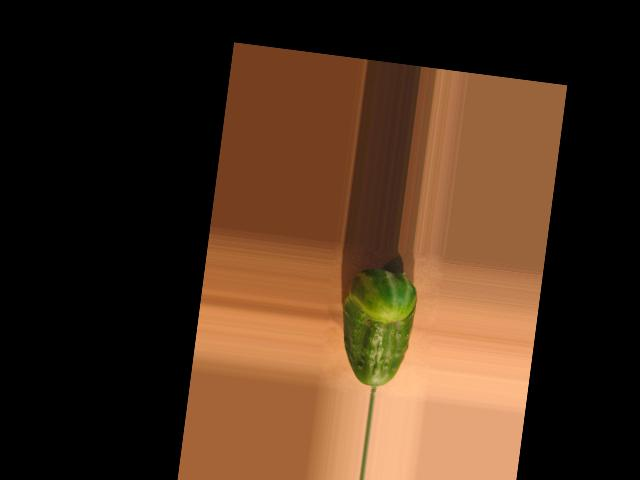cucumber: (334, 265, 421, 390)
